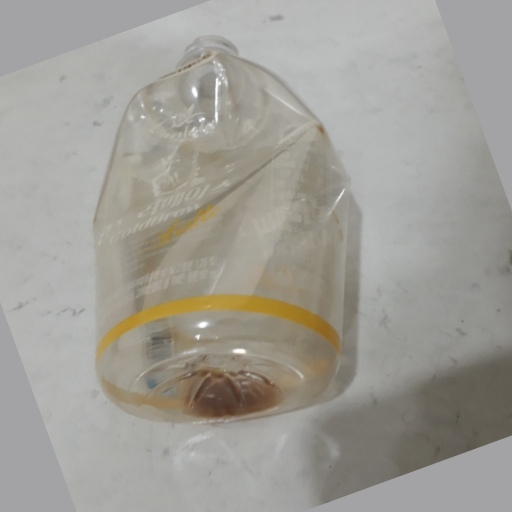Plastic_0: (90, 33, 347, 422)
